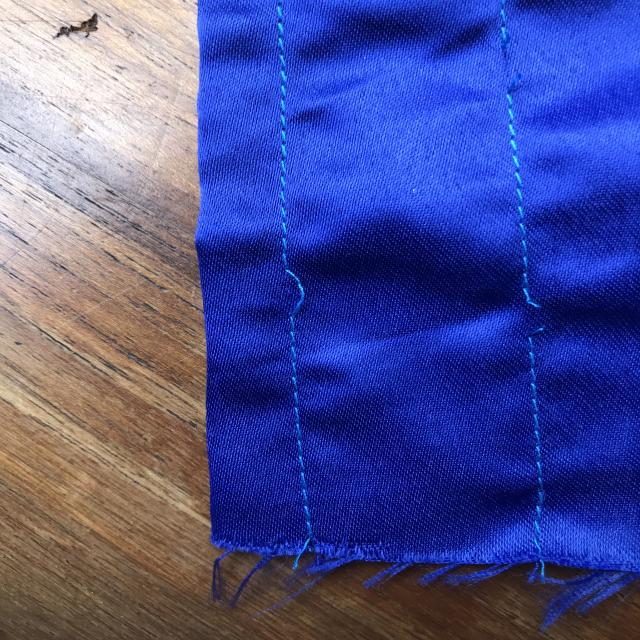broken: (496, 273, 568, 350)
good: (260, 71, 310, 188)
skip: (251, 250, 326, 344)
